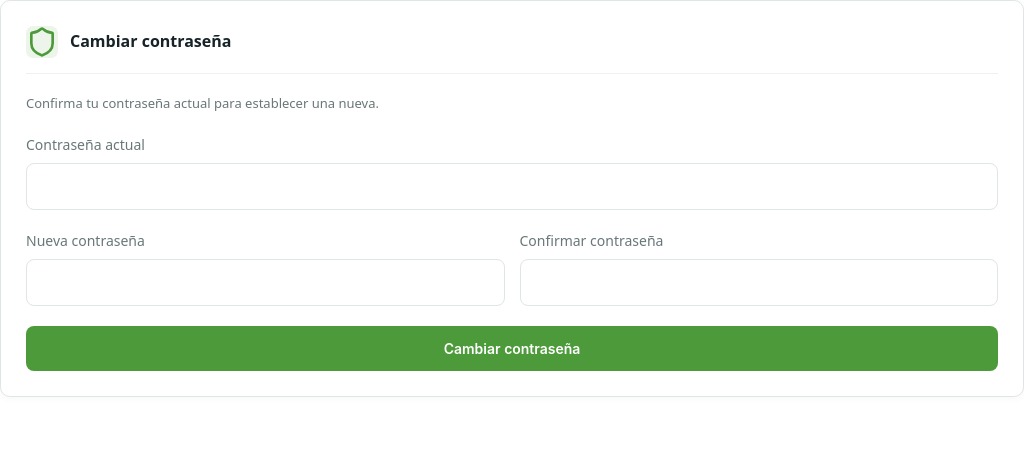
Test: CambioContrasenaForm › no actualiza si la confirmación no coincide
In the password field labelled "Contraseña actual": (512, 186) top-left (26, 162), bottom-right (998, 210), type "actual123"
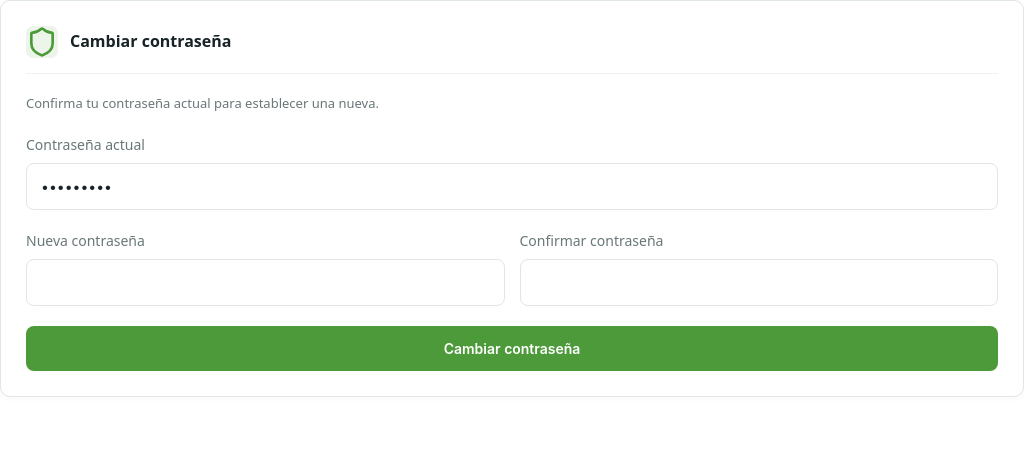
In the password field labelled "Nueva contraseña": (265, 282) top-left (26, 258), bottom-right (504, 306), type "nueva123"
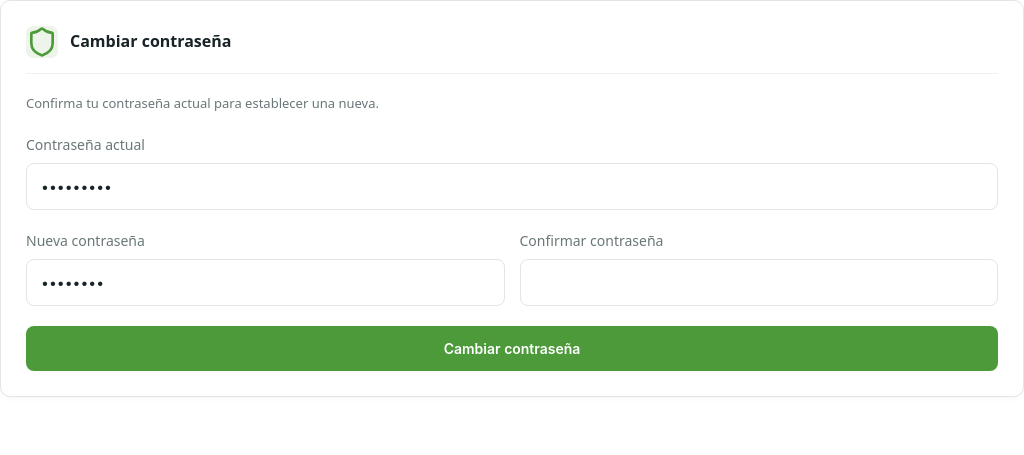
In the password field labelled "Confirmar contraseña": (759, 282) top-left (520, 258), bottom-right (998, 306), type "distinta123"
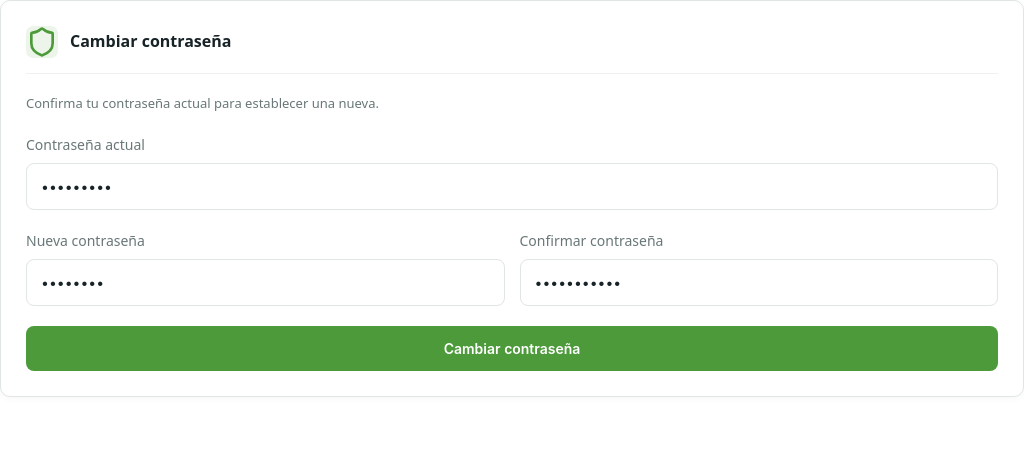
Click the button "Cambiar contraseña": (512, 348) top-left (26, 326), bottom-right (998, 370)
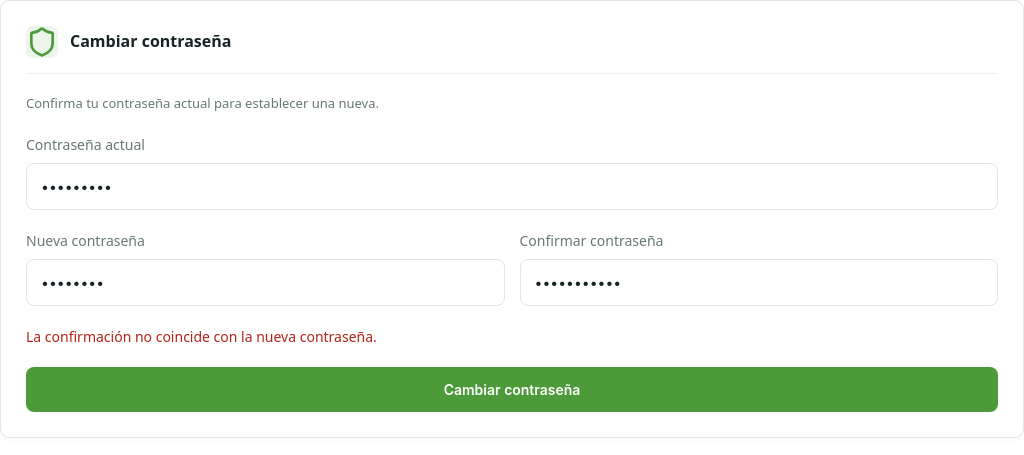
expect the message reads "La confirmación no coincide con la nueva contraseña.": met, box top-left (26, 326), bottom-right (377, 346)
